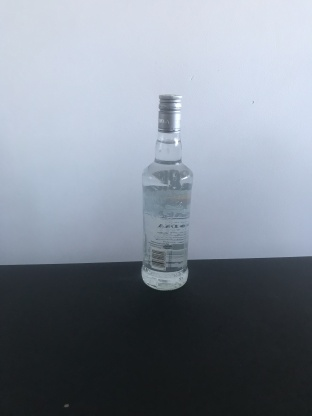nakretka: (156, 92, 183, 134)
